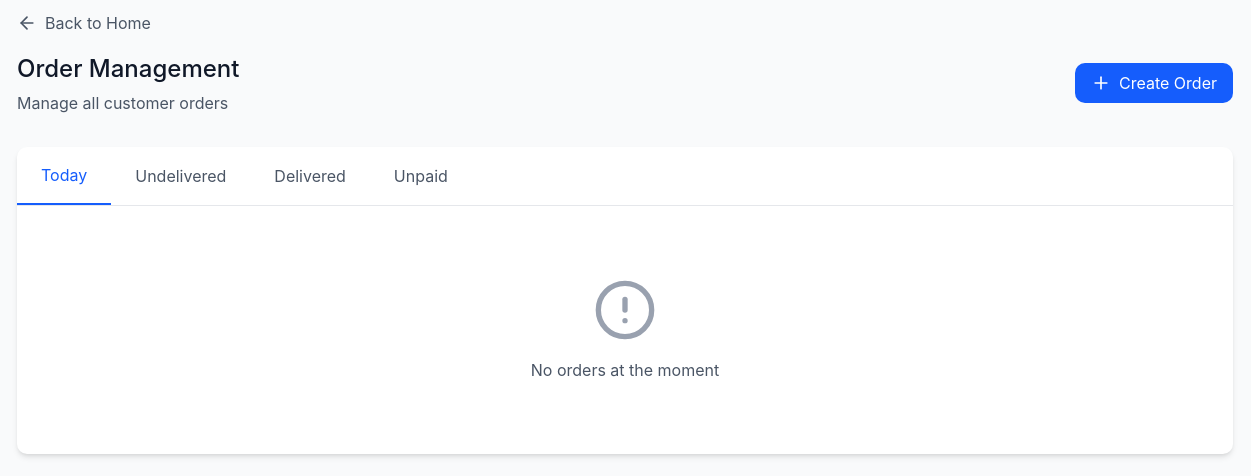
OrderManagementScreen › Delivery Today toggle on the Undelivered tab › shows the toggle on for an order due today and off for one due later
Click the button "Undelivered": click(181, 176) [111,147,250,205]
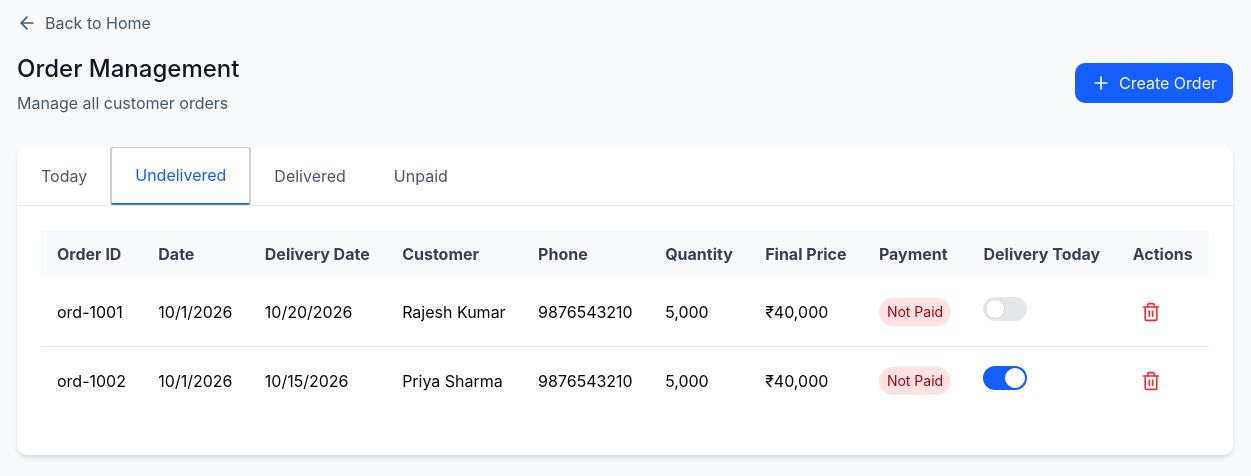
Check: the text "Rajesh Kumar" is shown, box [386,278,522,346]
